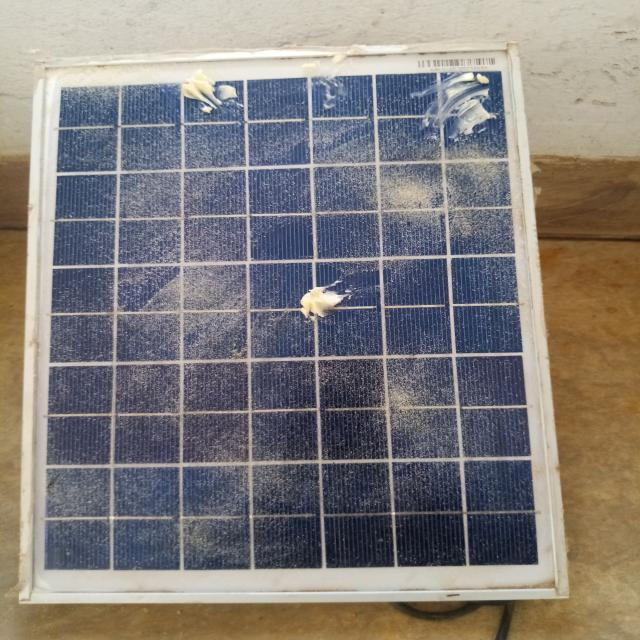faulty: (21, 43, 570, 602)
